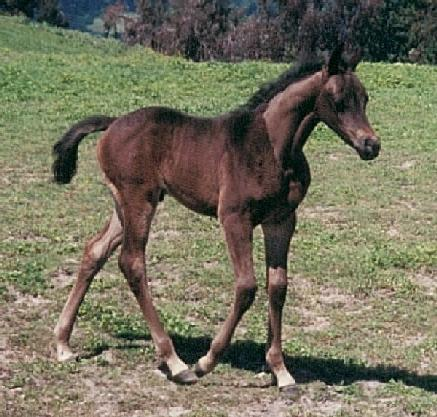horse: (50, 32, 381, 388)
